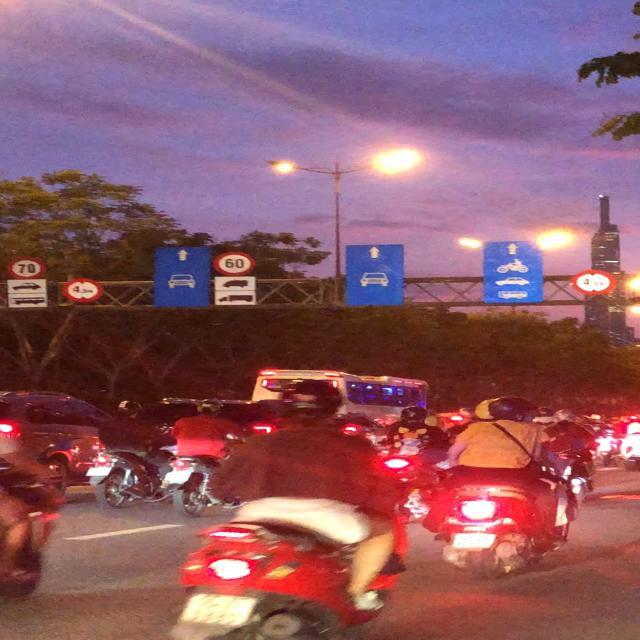Bien bao han che chieu cao: (562, 268, 618, 296), (59, 277, 106, 306)
Bien bao toc do toi da cho phep: (3, 254, 48, 282), (212, 250, 258, 277)
